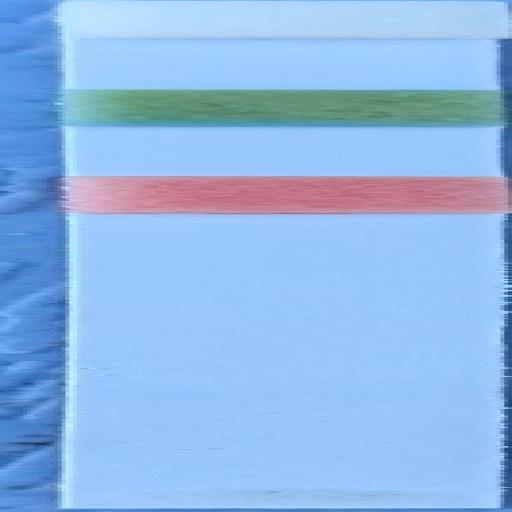pads: (48, 0, 512, 40), (77, 88, 512, 128), (77, 175, 512, 215)
